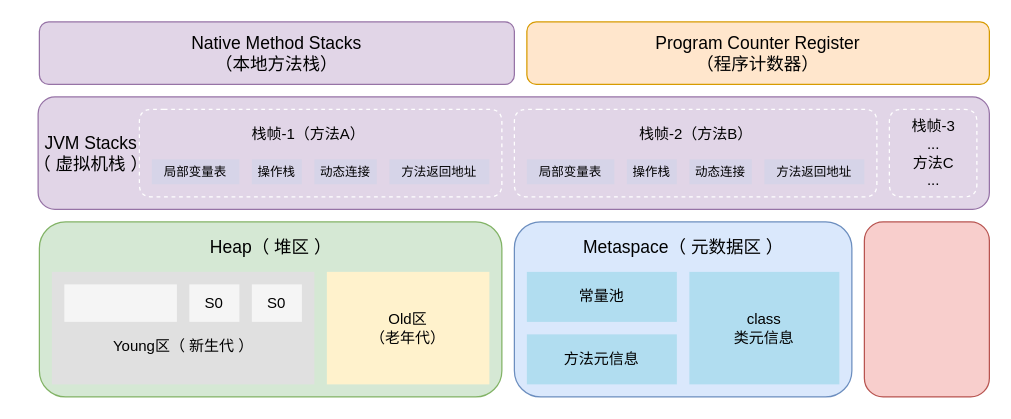
Image size: 1011x419. Some labels were removed from this diagram. Each missing label, with the centre of its shape:
"CodeCache JIT编译产物" goes at point (926, 309).
"Eden" goes at point (120, 302).
